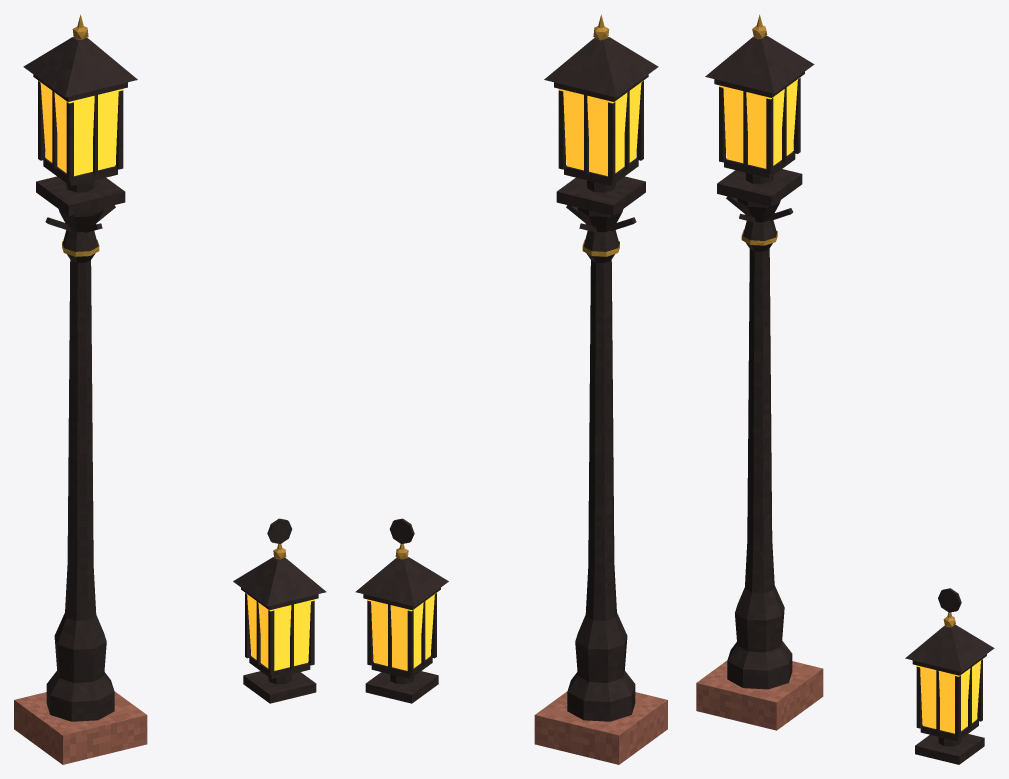
File: lamp_post.glb
The picture shows the model from 3 angles, left to right: view 1: azimuth 30°, elevation 25°; view 2: azimuth 150°, elevation 25°; view 3: azimuth 330°, elevation 25°; orthographic projection. The views are drawn at different scales.
Visible parts, largest first — view 1: LampPost; view 2: LampPost; view 3: LampPost.
Part boxes in pixels (bbox=[...]): LampPost: bbox=[14, 14, 326, 764]; LampPost: bbox=[355, 14, 667, 764]; LampPost: bbox=[696, 14, 994, 764].
Size of the model in its own units: 1.16 by 2.95 by 0.36.
Materials: 5 (4 with a texture image).
